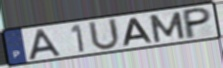1: (70, 23, 87, 54)
A: (27, 27, 64, 61), (121, 17, 155, 47)
M: (147, 10, 187, 44)
P: (183, 6, 213, 41)
U: (87, 17, 122, 52)
